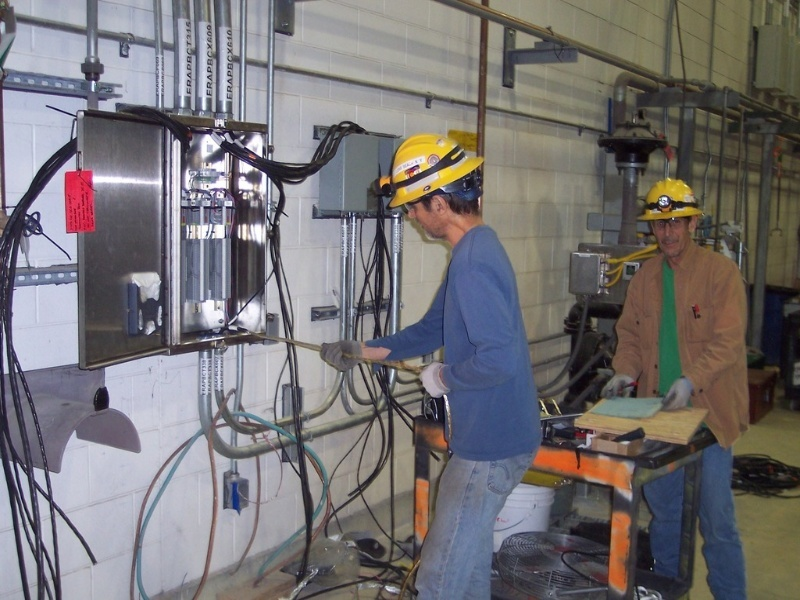Baret: (384, 134, 484, 206), (636, 178, 705, 224)
